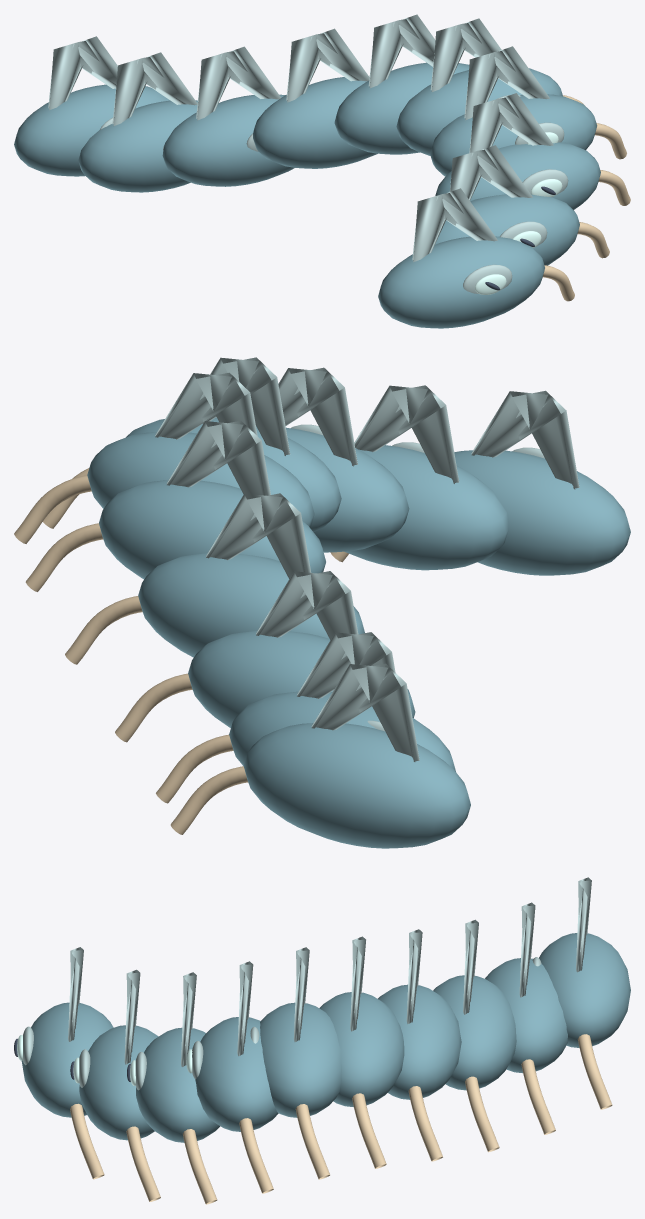
Rendered from bio_ribbon_colony_02_near.glb.
3 views of the same model, one above another, from view 1: azimuth 30°, elevation 25°; view 2: azimuth 150°, elevation 25°; view 3: azimuth 270°, elevation 25° (orthographic). The views are drawn at different scales.
Parts seen in each view (by area): view 1: Overlapping folded ribbon, Overlapping folded ribbon.007, Overlapping folded ribbon.006, Overlapping folded ribbon.008, Overlapping folded ribbon.009, Overlapping folded ribbon.005, Overlapping folded ribbon.001, Overlapping folded ribbon.003, Overlapping folded ribbon.002, Overlapping folded ribbon.004, Raised pleated edge, Raised pleated edge.002 (+13 smaller); view 2: Overlapping folded ribbon.009, Overlapping folded ribbon, Overlapping folded ribbon.006, Overlapping folded ribbon.001, Overlapping folded ribbon.005, Overlapping folded ribbon.007, Overlapping folded ribbon.002, Overlapping folded ribbon.004, Raised pleated edge, Raised pleated edge.001, Raised pleated edge.009, Raised pleated edge.006 (+14 smaller); view 3: Overlapping folded ribbon.004, Overlapping folded ribbon.009, Overlapping folded ribbon.003, Overlapping folded ribbon.005, Overlapping folded ribbon.006, Overlapping folded ribbon.007, Overlapping folded ribbon, Overlapping folded ribbon.002, Overlapping folded ribbon.008, Overlapping folded ribbon.001, Raised pleated edge.001, Raised pleated edge.003 (+18 smaller).
Part boxes in pixels (<box>): Overlapping folded ribbon: <box>378,236,544,328</box>; Overlapping folded ribbon.007: <box>162,94,294,186</box>; Overlapping folded ribbon.006: <box>253,77,377,168</box>; Overlapping folded ribbon.008: <box>78,100,197,192</box>; Overlapping folded ribbon.009: <box>14,84,169,176</box>; Overlapping folded ribbon.005: <box>334,62,469,154</box>; Overlapping folded ribbon.001: <box>435,194,579,265</box>; Overlapping folded ribbon.003: <box>430,94,597,176</box>; Overlapping folded ribbon.002: <box>435,142,600,209</box>; Overlapping folded ribbon.004: <box>396,68,562,155</box>; Raised pleated edge: <box>412,188,512,293</box>; Raised pleated edge.002: <box>469,93,568,194</box>; Overlapping folded ribbon.009: <box>243,723,470,848</box>; Overlapping folded ribbon: <box>454,450,630,575</box>; Overlapping folded ribbon.006: <box>138,553,364,657</box>; Overlapping folded ribbon.001: <box>345,445,508,570</box>; Overlapping folded ribbon.005: <box>99,480,325,579</box>; Overlapping folded ribbon.007: <box>188,630,415,728</box>; Overlapping folded ribbon.002: <box>286,427,409,552</box>; Overlapping folded ribbon.004: <box>87,432,314,527</box>; Raised pleated edge: <box>471,390,579,489</box>; Raised pleated edge.001: <box>354,385,459,483</box>; Raised pleated edge.009: <box>311,663,419,761</box>; Raised pleated edge.006: <box>206,493,311,578</box>; Overlapping folded ribbon.004: <box>260,1002,341,1117</box>; Overlapping folded ribbon.009: <box>539,933,630,1047</box>; Overlapping folded ribbon.003: <box>195,1017,278,1131</box>; Overlapping folded ribbon.005: <box>319,992,404,1107</box>; Overlapping folded ribbon.006: <box>378,984,461,1099</box>; Overlapping folded ribbon.007: <box>433,975,516,1090</box>; Overlapping folded ribbon: <box>21,1002,113,1117</box>; Overlapping folded ribbon.002: <box>136,1027,220,1142</box>; Overlapping folded ribbon.008: <box>485,958,567,1073</box>; Overlapping folded ribbon.001: <box>79,1025,158,1140</box>; Raised pleated edge.001: <box>79,969,140,1087</box>; Raised pleated edge.003: <box>192,961,253,1079</box>.
Bounding box in the file's own units: 2.76 × 1.21 × 3.04.
